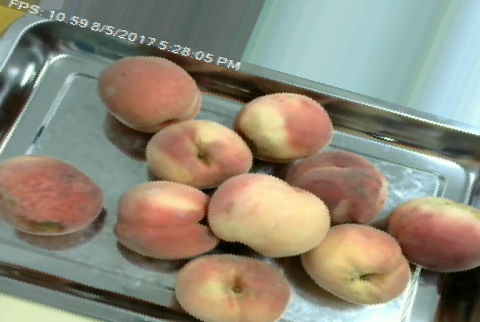Peach: (206, 173, 330, 258), (302, 223, 412, 305), (113, 180, 221, 258), (1, 155, 103, 235), (172, 253, 289, 322), (98, 56, 201, 132), (142, 118, 252, 189), (284, 150, 386, 224), (387, 195, 479, 273), (235, 91, 335, 161)
